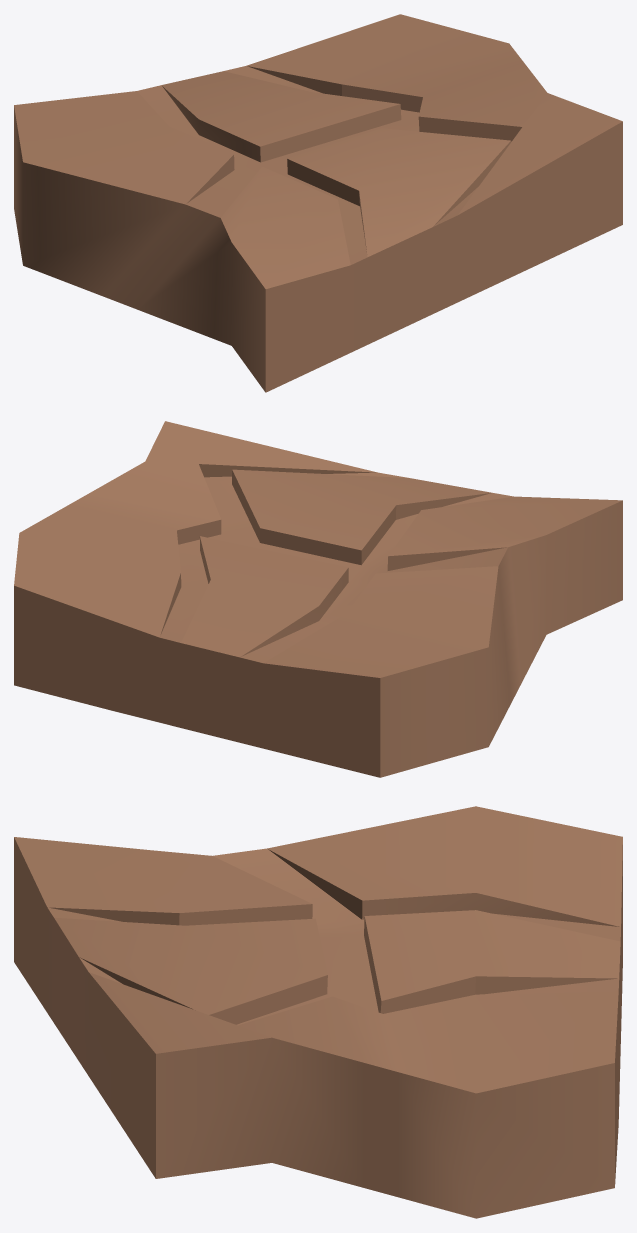
File: FMP_Slab_1_Shaded_3.fbx
The picture shows the model from 3 angles, top to bottom: view 1: azimuth 30°, elevation 25°; view 2: azimuth 150°, elevation 25°; view 3: azimuth 270°, elevation 25°; orthographic projection. The views are drawn at different scales.
Parts seen in each view (by area): view 1: pCube153; view 2: pCube153; view 3: pCube153.
Boxes of the visible parts, x1,y1,x2,y2 form: pCube153: (14, 14, 622, 392); pCube153: (14, 421, 622, 777); pCube153: (14, 806, 622, 1218).
Size of the model in its own units: 241 by 60.2 by 216.
